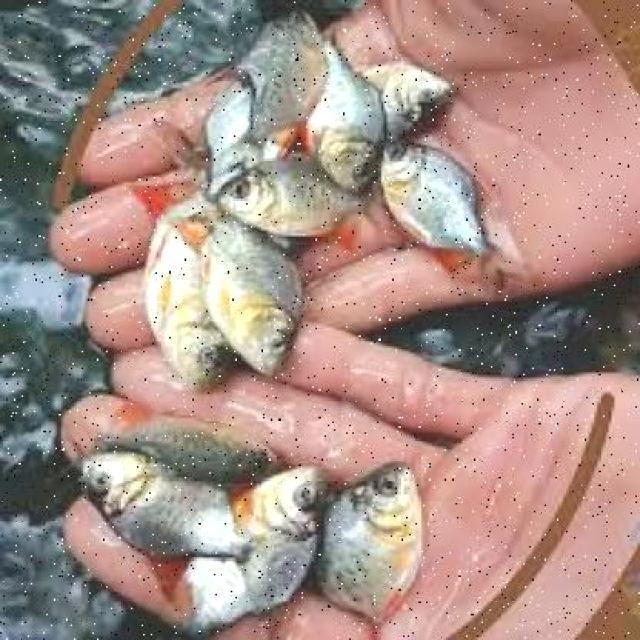ikan-pacu: (188, 462, 332, 612), (321, 460, 434, 608), (384, 140, 508, 272), (201, 214, 297, 377), (218, 158, 370, 232)
